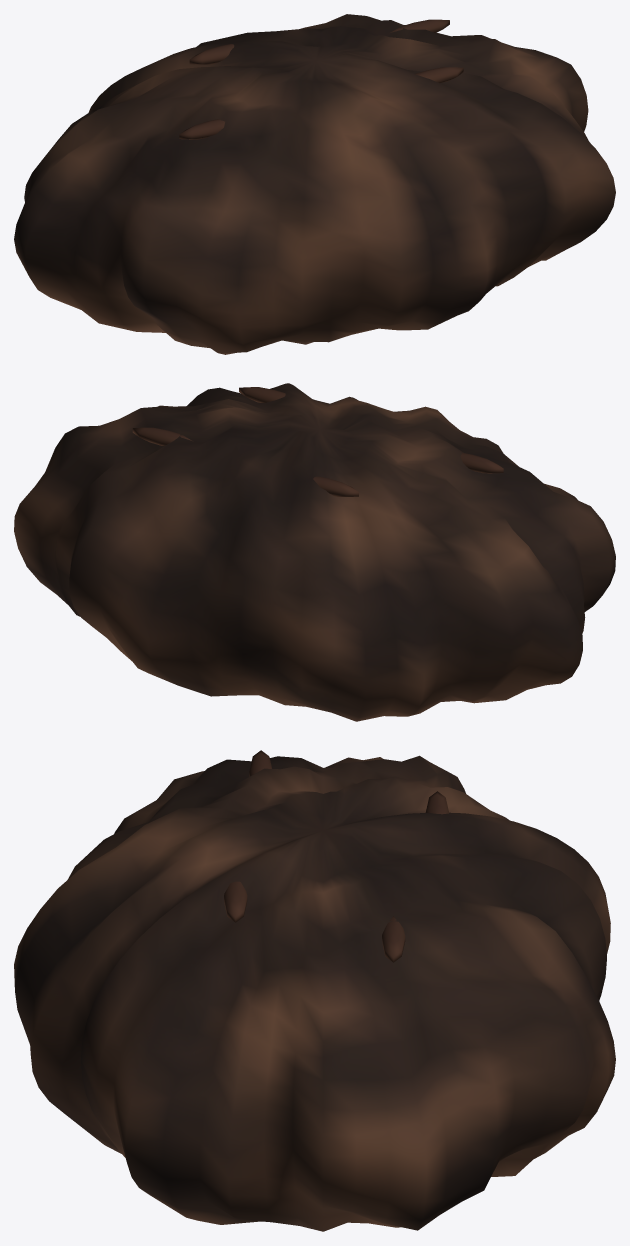
File: bread_burnt.glb
3 views of the same model, one above another, from view 1: azimuth 30°, elevation 25°; view 2: azimuth 150°, elevation 25°; view 3: azimuth 270°, elevation 25° (orthographic). The views are drawn at different scales.
Visible parts, largest first — view 1: 焦げた皮と裂け目, 焼き割れの縁; view 2: 焦げた皮と裂け目, 焼き割れの縁; view 3: 焦げた皮と裂け目, 焼き割れの縁.
Boxes of the visible parts, x1=… form: 焦げた皮と裂け目: x1=14, y1=14, x2=615, y2=354; 焼き割れの縁: x1=179, y1=19, x2=463, y2=139; 焦げた皮と裂け目: x1=14, y1=383, x2=615, y2=721; 焼き割れの縁: x1=132, y1=387, x2=503, y2=496; 焦げた皮と裂け目: x1=14, y1=755, x2=615, y2=1231; 焼き割れの縁: x1=224, y1=750, x2=448, y2=962.
Size of the model in its own units: 0.9485 by 0.3585 by 0.6862.
